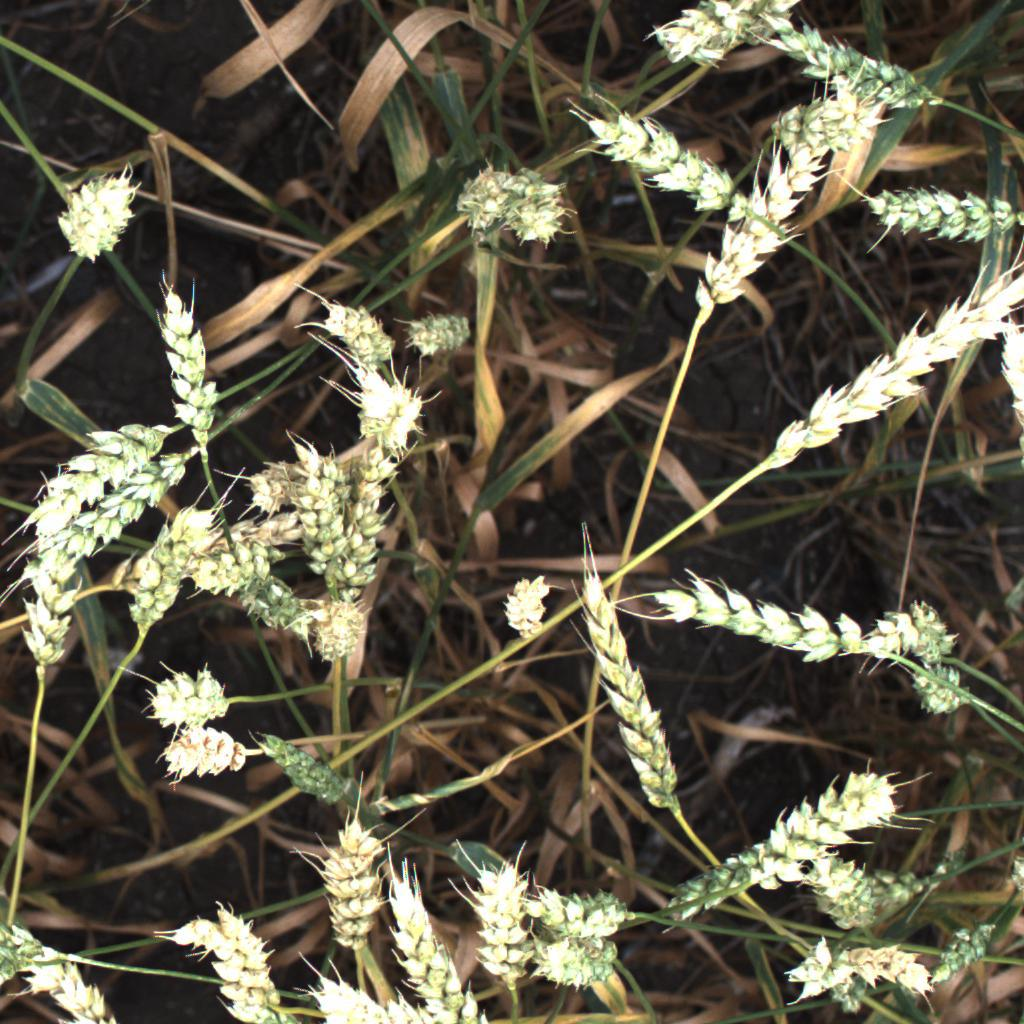0-0: (775, 266, 1024, 463), (559, 524, 693, 813), (686, 144, 838, 330), (659, 811, 896, 930), (18, 448, 202, 588), (19, 402, 187, 547), (648, 564, 888, 665), (569, 94, 749, 224), (741, 764, 914, 897), (754, 15, 956, 115), (108, 508, 299, 600), (141, 266, 237, 443), (30, 158, 160, 278), (373, 869, 473, 1024), (178, 899, 301, 1024), (781, 929, 951, 1015), (852, 171, 1019, 258), (122, 497, 224, 636), (13, 926, 146, 1024), (633, 0, 807, 73), (461, 845, 544, 995), (314, 807, 392, 958), (284, 444, 356, 604), (16, 519, 85, 671), (508, 937, 647, 1005), (338, 441, 397, 599), (759, 91, 898, 157), (431, 151, 532, 238), (148, 710, 258, 786), (259, 727, 363, 807), (138, 660, 241, 736), (513, 890, 634, 951), (836, 861, 940, 930), (353, 367, 433, 454), (225, 576, 323, 645), (808, 853, 891, 934), (1, 886, 68, 985), (306, 980, 450, 1024), (312, 291, 400, 362), (922, 910, 993, 985), (238, 459, 335, 513), (406, 297, 486, 362), (867, 606, 952, 663), (902, 655, 974, 721), (183, 542, 270, 595), (296, 599, 372, 657), (509, 170, 566, 247), (500, 567, 556, 644), (999, 307, 1024, 475)
